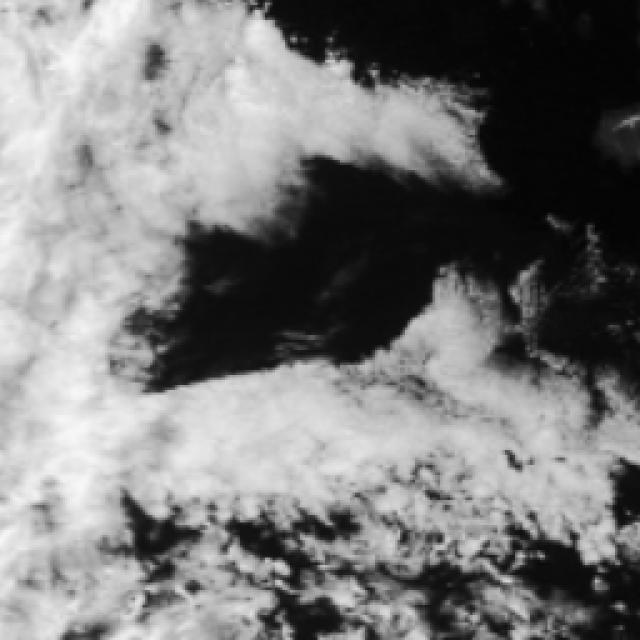CB: (0, 0, 229, 206), (0, 213, 145, 460), (146, 396, 364, 504)
